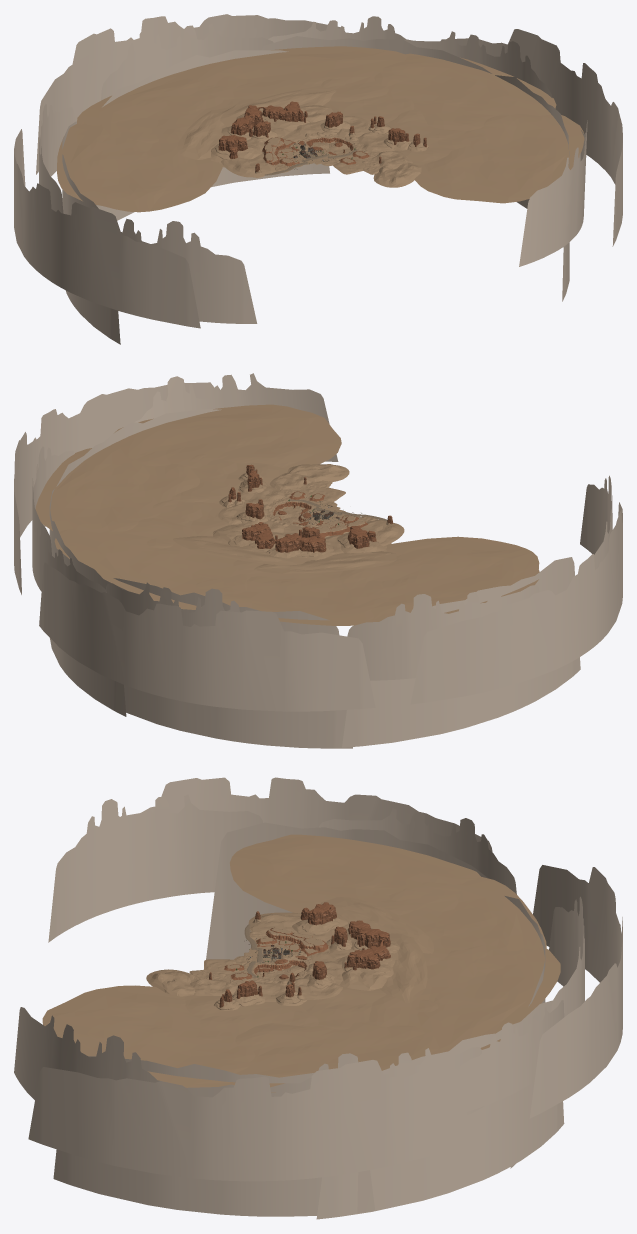
The model's file is Redrock.glb.
3 views of the same model, one above another, from view 1: azimuth 30°, elevation 25°; view 2: azimuth 150°, elevation 25°; view 3: azimuth 270°, elevation 25° (orthographic). The views are drawn at different scales.
Parts seen in each view (by area): view 1: SM_Env_BackgroundCard_03__1_, SM_Env_Sand_Ground_02__39_, SM_Env_Sand_Ground_02__34_, SM_Env_Sand_Ground_02__41_, SM_Env_Sand_Ground_02__33_, SM_Env_BackgroundCard_03, SM_Env_BackgroundCard_03__4_, SM_Env_Sand_Ground_02__40_, SM_Env_BackgroundCard_02__1_, SM_Env_BackgroundCard_02__2_, SM_Env_BackgroundCard_02, SM_Env_BackgroundCard_01 (+15 smaller); view 2: SM_Env_BackgroundCard_03, SM_Env_BackgroundCard_03__1_, SM_Env_Sand_Ground_02__34_, SM_Env_BackgroundCard_01__1_, SM_Env_Sand_Ground_02__39_, SM_Env_Sand_Ground_02__33_, SM_Env_BackgroundCard_01, SM_Env_Sand_Ground_02__41_, SM_Env_BackgroundCard_03__4_, SM_Env_BackgroundCard_02__4_, SM_Env_Sand_Ground_02__40_, SM_Env_BackgroundCard_02__2_ (+13 smaller); view 3: SM_Env_BackgroundCard_03__4_, SM_Env_BackgroundCard_02__1_, SM_Env_Sand_Ground_02__39_, SM_Env_BackgroundCard_03, SM_Env_BackgroundCard_01__5_, SM_Env_BackgroundCard_01__4_, SM_Env_Sand_Ground_02__34_, SM_Env_Sand_Ground_02__41_, SM_Env_Sand_Ground_02__33_, SM_Env_BackgroundCard_03__1_, SM_Env_Sand_Ground_02__40_, SM_Env_BackgroundCard_01__1_ (+14 smaller).
Part boxes in pixels (<box>): SM_Env_BackgroundCard_03__1_: <box>14,129,200,328</box>; SM_Env_Sand_Ground_02__39_: <box>57,118,222,212</box>; SM_Env_Sand_Ground_02__34_: <box>414,113,584,203</box>; SM_Env_Sand_Ground_02__41_: <box>183,46,406,101</box>; SM_Env_Sand_Ground_02__33_: <box>374,53,556,130</box>; SM_Env_BackgroundCard_03: <box>36,14,345,174</box>; SM_Env_BackgroundCard_03__4_: <box>440,29,622,246</box>; SM_Env_Sand_Ground_02__40_: <box>77,71,256,143</box>; SM_Env_BackgroundCard_02__1_: <box>121,218,257,323</box>; SM_Env_BackgroundCard_02__2_: <box>519,120,587,266</box>; SM_Env_BackgroundCard_02: <box>100,23,273,100</box>; SM_Env_BackgroundCard_01: <box>96,50,329,220</box>; SM_Env_BackgroundCard_03: <box>39,562,375,711</box>; SM_Env_BackgroundCard_03__1_: <box>410,502,622,704</box>; SM_Env_Sand_Ground_02__34_: <box>110,404,341,469</box>; SM_Env_BackgroundCard_01__1_: <box>342,557,580,747</box>; SM_Env_Sand_Ground_02__39_: <box>327,536,539,621</box>; SM_Env_Sand_Ground_02__33_: <box>35,446,199,532</box>; SM_Env_BackgroundCard_01: <box>104,578,352,748</box>; SM_Env_Sand_Ground_02__41_: <box>54,518,250,609</box>; SM_Env_BackgroundCard_03__4_: <box>14,382,214,594</box>; SM_Env_BackgroundCard_02__4_: <box>347,585,539,680</box>; SM_Env_Sand_Ground_02__40_: <box>194,560,389,625</box>; SM_Env_BackgroundCard_02__2_: <box>134,373,338,461</box>; SM_Env_BackgroundCard_03__4_: <box>28,1060,471,1181</box>; SM_Env_BackgroundCard_02__1_: <box>48,794,262,942</box>; SM_Env_Sand_Ground_02__39_: <box>230,834,480,915</box>; SM_Env_BackgroundCard_03: <box>529,865,622,1118</box>; SM_Env_BackgroundCard_01__5_: <box>316,1000,564,1219</box>; SM_Env_BackgroundCard_01__4_: <box>53,1056,375,1216</box>; SM_Env_Sand_Ground_02__34_: <box>42,985,255,1087</box>; SM_Env_Sand_Ground_02__41_: <box>369,944,560,1052</box>; SM_Env_Sand_Ground_02__33_: <box>230,1022,443,1092</box>; SM_Env_BackgroundCard_03__1_: <box>120,777,492,852</box>; SM_Env_Sand_Ground_02__40_: <box>389,877,546,973</box>; SM_Env_BackgroundCard_01__1_: <box>206,822,488,959</box>.
Bounding box in the file's own units: 1277 × 367 × 1098.
Materials: 12 (8 with a texture image).
